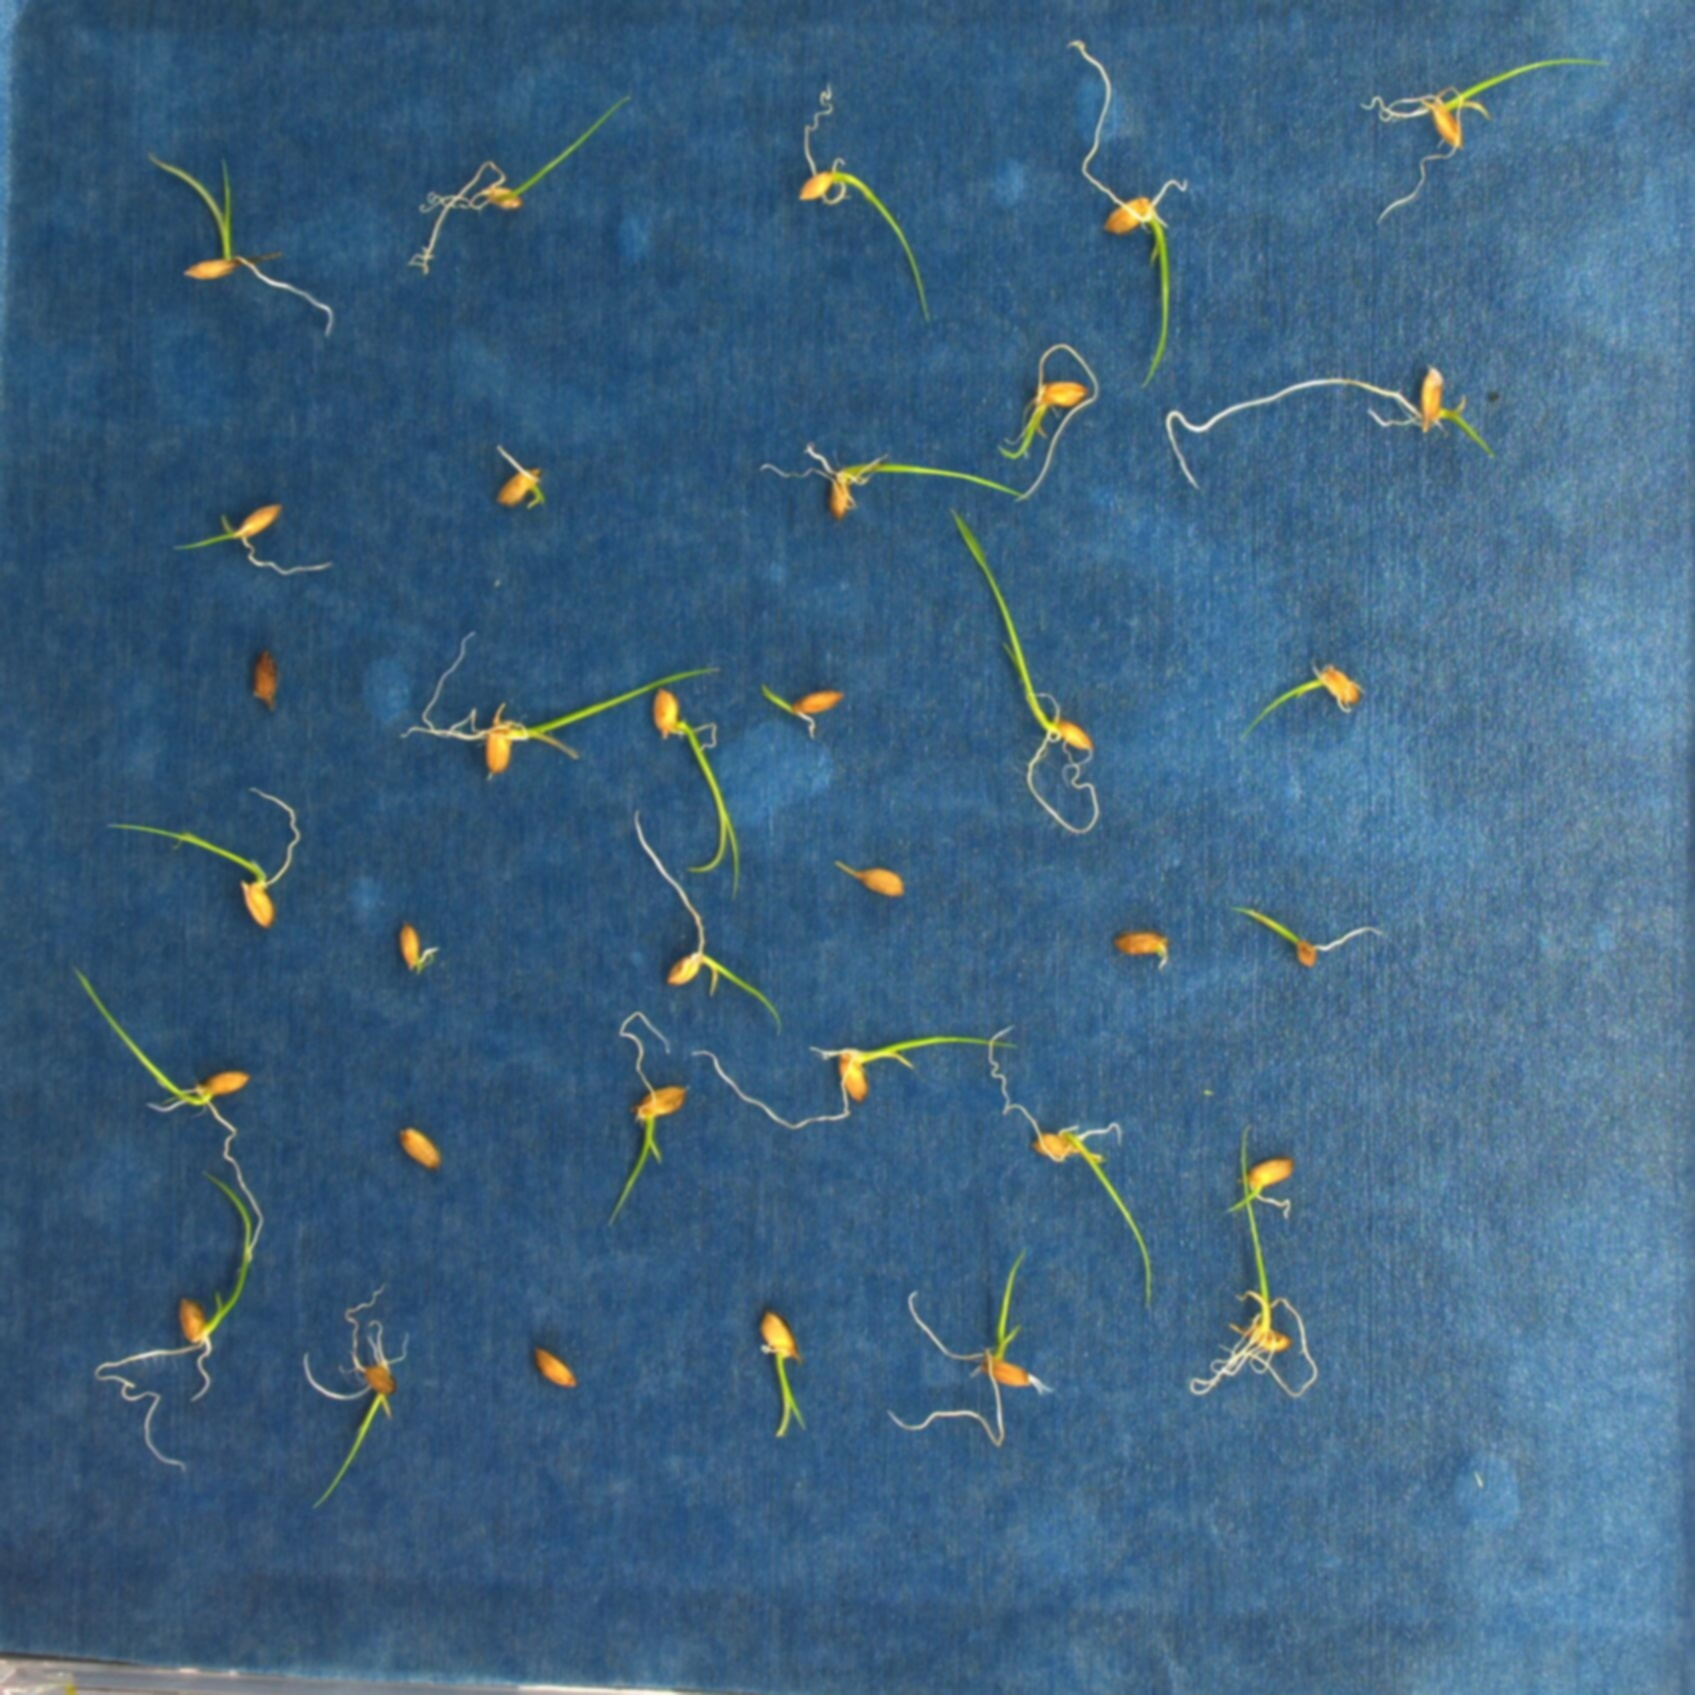not sprout: (245, 650, 287, 714), (391, 1125, 441, 1172), (528, 1340, 574, 1388), (397, 930, 441, 978)
sprout: (70, 964, 262, 1260), (989, 1023, 1158, 1318), (951, 508, 1097, 840), (93, 1166, 248, 1471), (404, 627, 719, 770), (1352, 57, 1613, 224), (1071, 40, 1191, 386), (424, 92, 640, 279), (1164, 368, 1499, 480), (627, 812, 784, 1038), (1192, 1118, 1319, 1392), (147, 157, 331, 338), (793, 85, 934, 320), (692, 1037, 1017, 1127), (893, 1245, 1038, 1444), (113, 787, 303, 925), (296, 1284, 407, 1506), (647, 691, 740, 900), (748, 445, 1028, 511), (610, 1014, 688, 1225), (1010, 348, 1101, 504), (171, 504, 334, 574), (1236, 657, 1360, 744), (1239, 903, 1399, 965), (754, 1310, 813, 1439), (1225, 1127, 1299, 1223), (761, 691, 846, 737), (490, 445, 545, 511), (830, 857, 908, 900), (1111, 933, 1170, 975)
